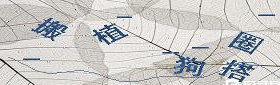chinese: (220, 58, 262, 85), (229, 29, 266, 52), (172, 55, 208, 78), (36, 17, 69, 42), (92, 21, 126, 42)
